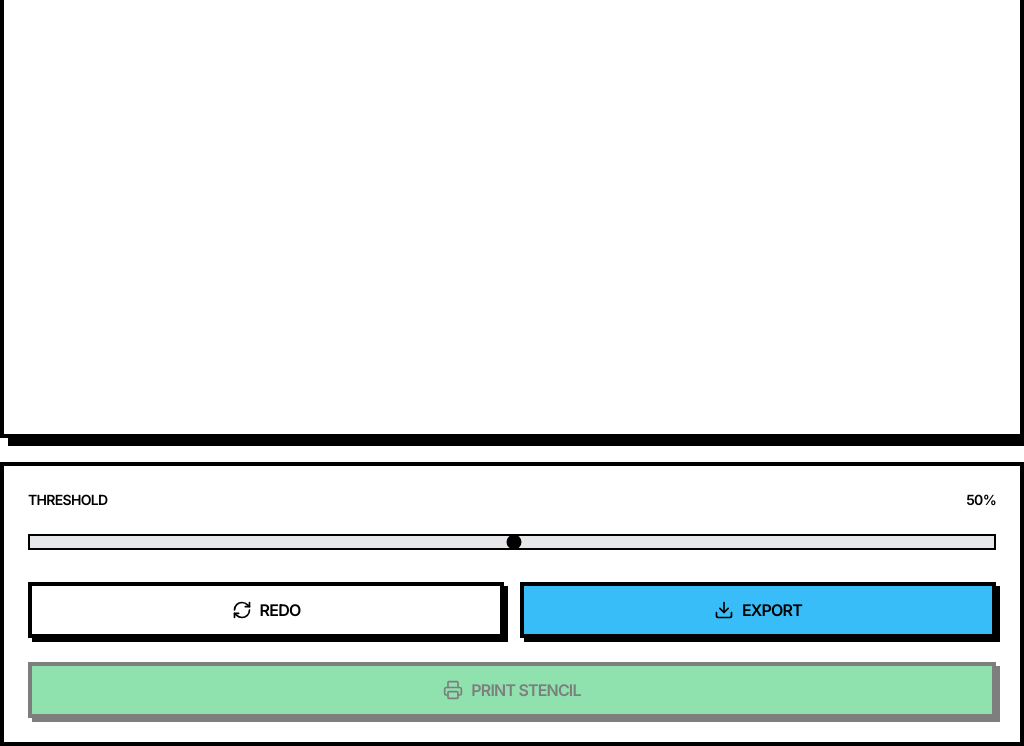
<ThresholdFilter /> › updates the displayed percentage when the slider moves
(page scrolled)
Set the slider to "64" at coordinates (275, 542), box [28,534,996,550]
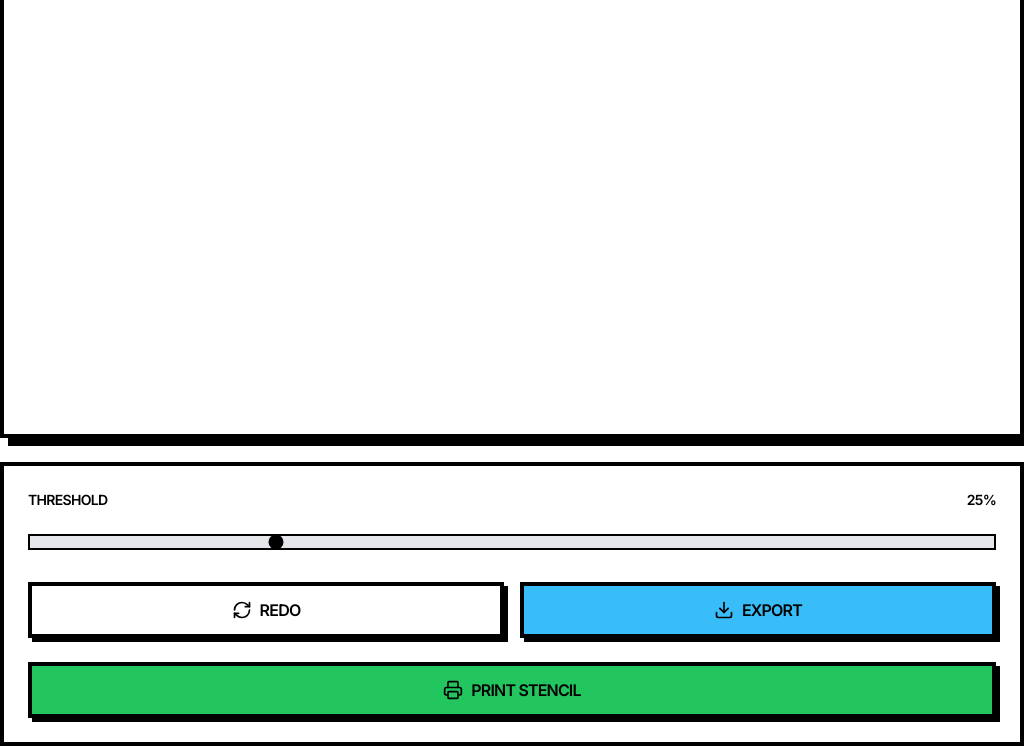
Check: the text "25%" is shown, box [967,490,996,510]
